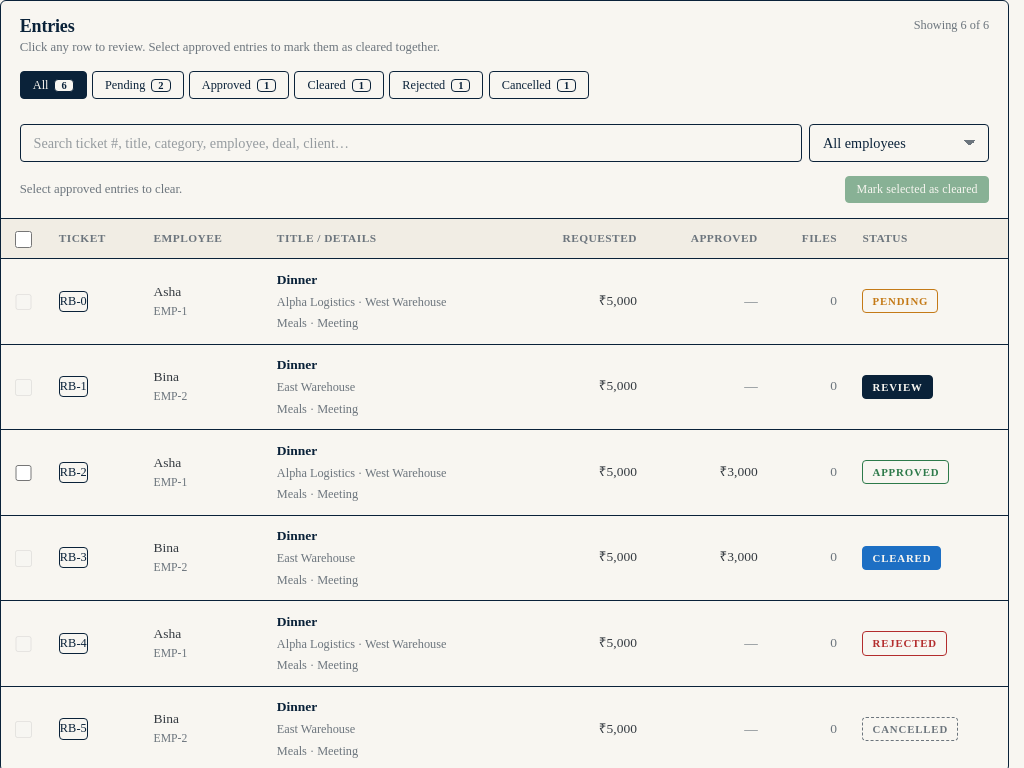
Scenario: only selects approved rows and keeps selection clicks separate from review
The width and height of the screenshot is (1024, 768).
expect the button "Mark selected as cleared" is disabled: met, box [845,176,989,204]
What coordinates should you click on to do the following:
click the checkbox named "Select ticket RB-2"
I would click on:
 (24, 473)
Its box is [15,465,32,481].
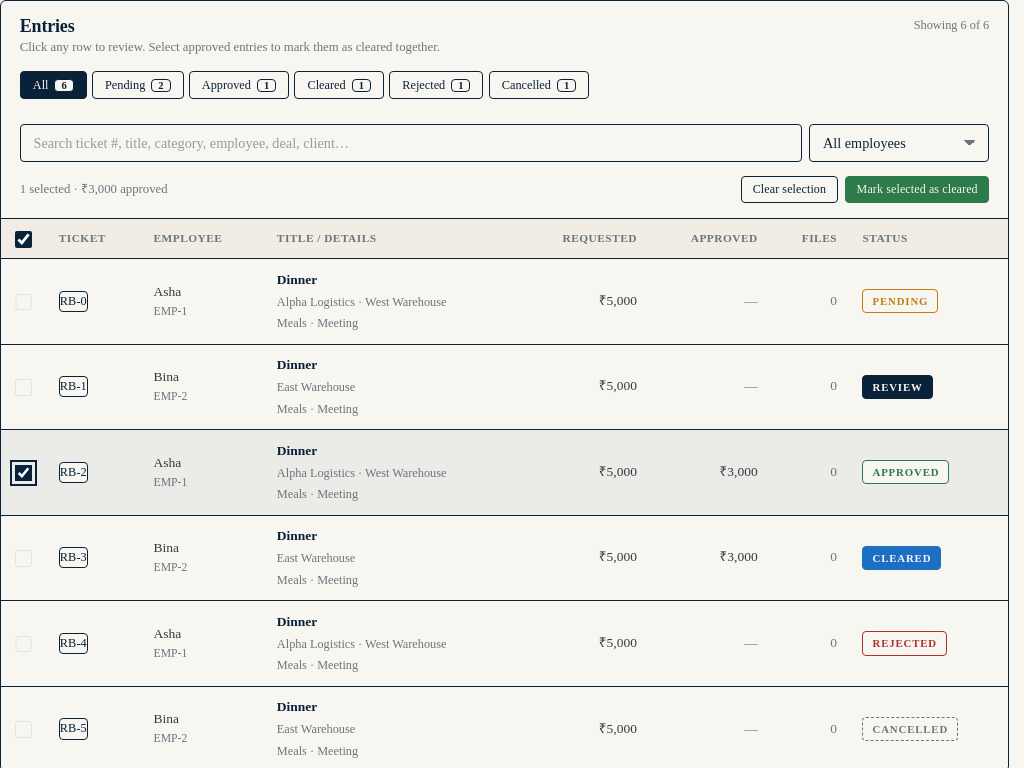
expect the button "Mark selected as cleared" is enabled: met, box [845,176,989,204]
